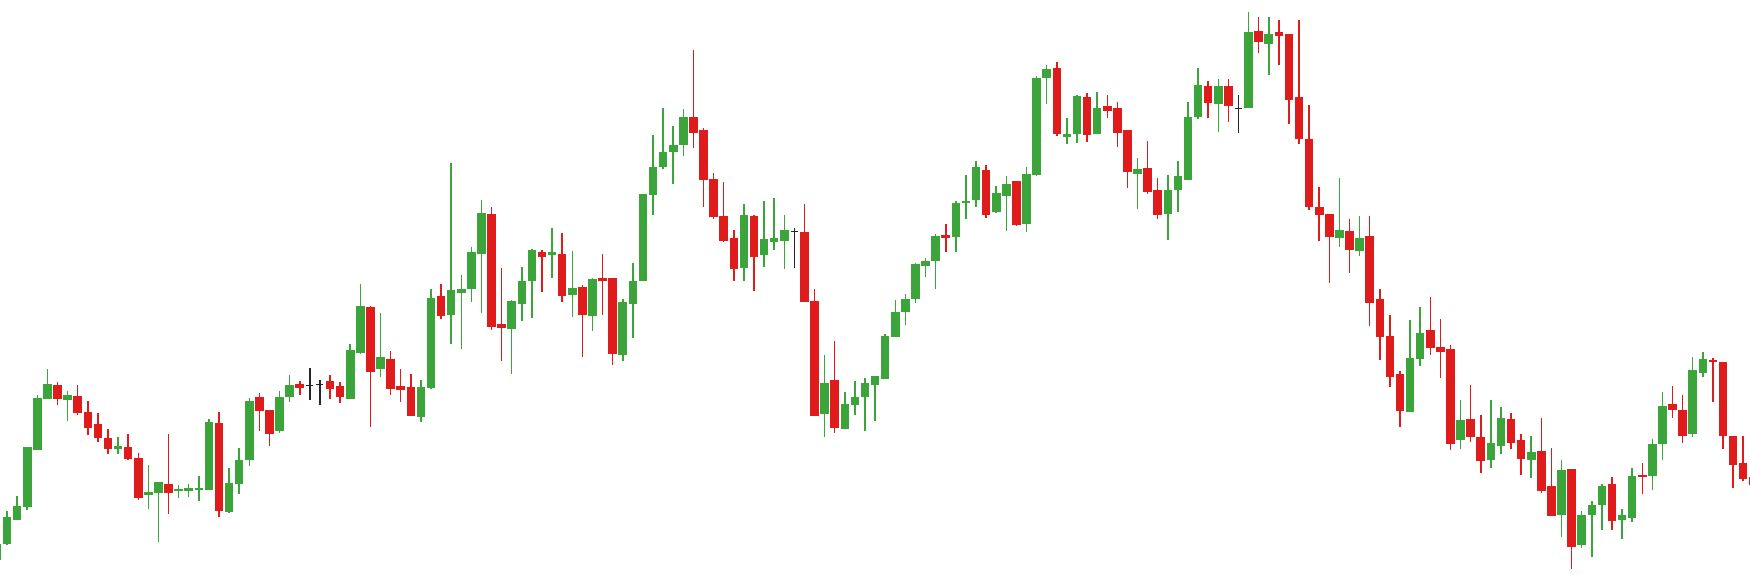buy: (456, 253, 518, 378)
sell: (1193, 10, 1296, 113)
